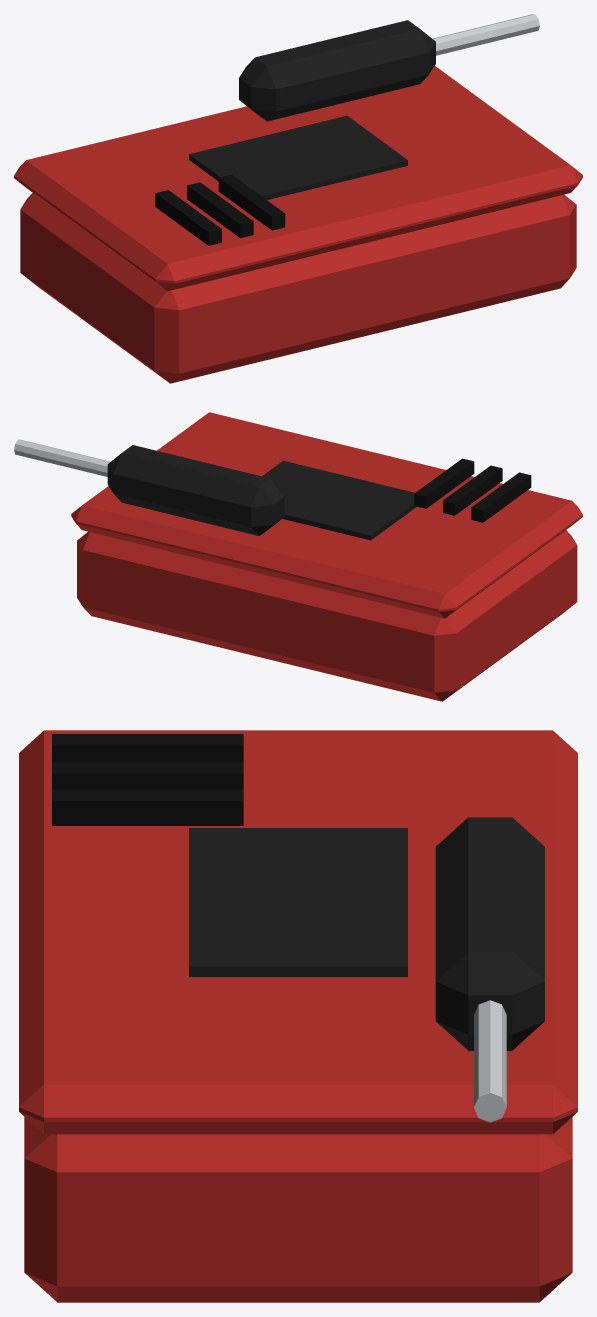
Rendered from kit_remendo_pneu.glb.
3 renders of one model, top to bottom at view 1: azimuth 30°, elevation 25°; view 2: azimuth 150°, elevation 25°; view 3: azimuth 270°, elevation 25°, orthographic. The views are drawn at different scales.
Parts seen in each view (by area): view 1: kit_remendo_pneu_plastico_vermelho, kit_remendo_pneu_plastico_preto, kit_remendo_pneu_borracha, kit_remendo_pneu_aco; view 2: kit_remendo_pneu_plastico_vermelho, kit_remendo_pneu_plastico_preto, kit_remendo_pneu_borracha, kit_remendo_pneu_aco; view 3: kit_remendo_pneu_plastico_vermelho, kit_remendo_pneu_plastico_preto, kit_remendo_pneu_borracha, kit_remendo_pneu_aco.
Part boxes in pixels (x1,y1,x2,y2): kit_remendo_pneu_plastico_vermelho: (14, 66, 582, 383); kit_remendo_pneu_plastico_preto: (189, 20, 435, 199); kit_remendo_pneu_borracha: (155, 174, 285, 245); kit_remendo_pneu_aco: (432, 14, 539, 55); kit_remendo_pneu_plastico_vermelho: (71, 412, 582, 701); kit_remendo_pneu_plastico_preto: (107, 445, 416, 540); kit_remendo_pneu_borracha: (414, 458, 531, 522); kit_remendo_pneu_aco: (14, 439, 110, 476); kit_remendo_pneu_plastico_vermelho: (19, 730, 577, 1302); kit_remendo_pneu_plastico_preto: (189, 817, 544, 1050); kit_remendo_pneu_borracha: (52, 734, 243, 825); kit_remendo_pneu_aco: (474, 1000, 506, 1122).
Size of the model in its own units: 0.191 by 0.066 by 0.102.
